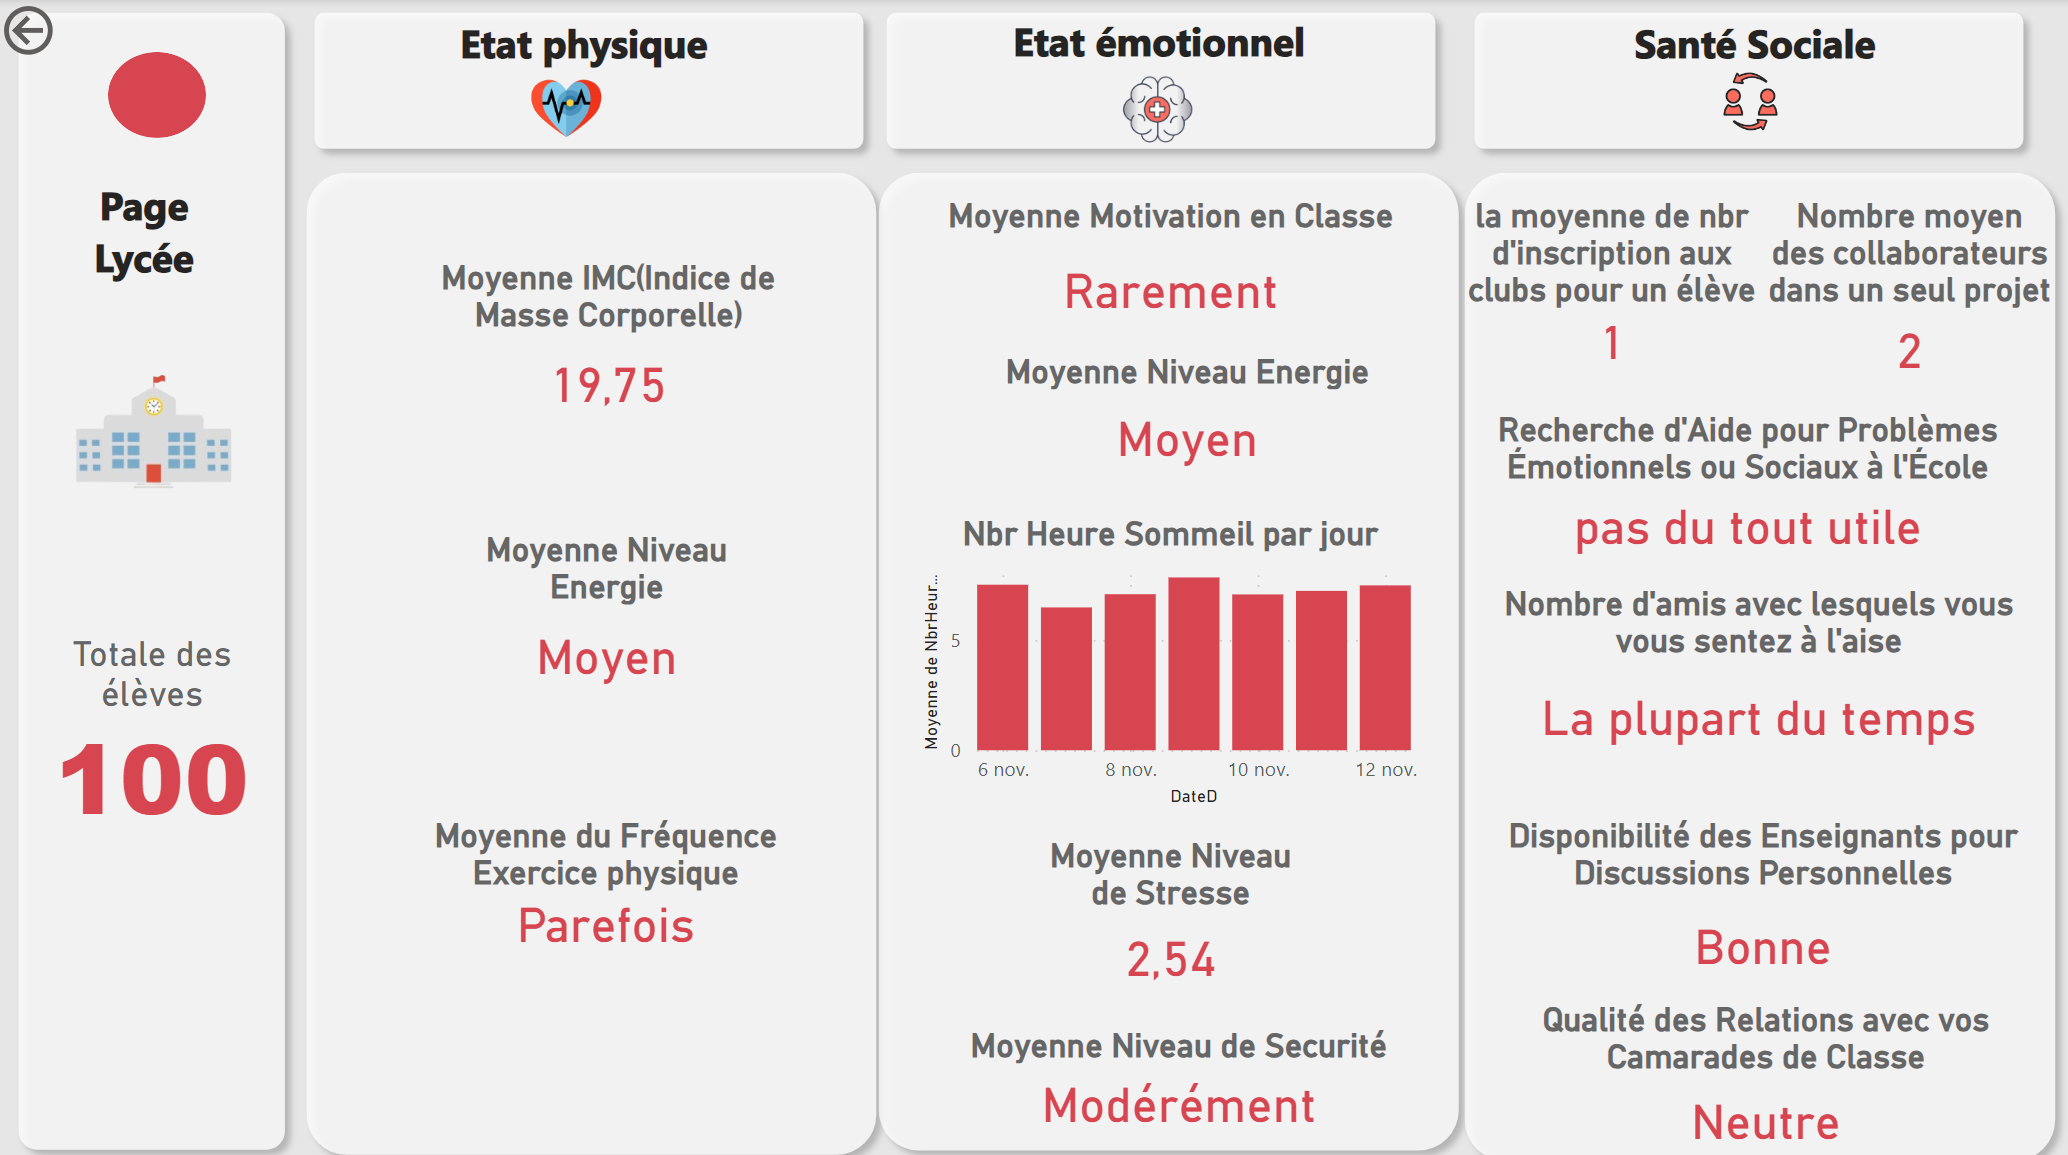

What the dashboard file says about the page in this screenshot:
{"tool":"powerbi","page":{"name":"Lycée","canvas":[1280,720],"ordinal":1},"visuals":[{"type":"shape","box":[187.5,0,356.8,102.1],"z":0,"group":"g3"},{"type":"shape","box":[540.4,0,356.8,102.1],"z":0,"group":"g4"},{"type":"shape","box":[903.8,0,356.8,102.1],"z":0,"group":"g5"},{"type":"shape","box":[182.3,98.3,369.8,624.5],"z":0},{"type":"shape","box":[5,0,182.5,720.2],"z":1000,"group":"g1"},{"type":"textbox","box":[573.2,4.9,287.8,67.9],"z":1000,"group":"g4"},{"type":"textbox","box":[219.4,6.2,286.2,68.8],"z":1000,"group":"g3"},{"type":"textbox","box":[942.4,6.2,287.8,67.9],"z":1000,"group":"g5"},{"type":"card","title":"Moyenne IMC(Indice de Masse Corporelle)","fields":{"Values":["Avg(MonthlyRoutineM.IMC)"]},"box":[262.5,160.3,230.1,106],"z":1000},{"type":"shape","box":[536.6,98.3,376.2,621.9],"z":2000},{"type":"card","title":"Moyenne Niveau de Stresse","fields":{"Values":["Avg(MonthlyRoutineM.NiveauStres)"]},"box":[632.2,517.2,186.2,102.1],"z":3000},{"type":"shape","box":[897.3,98.3,382.7,628.4],"z":4000},{"type":"textbox","box":[0,106.2,182.8,107.4],"z":5000,"group":"g1"},{"type":"card","title":"la moyenne de nbr d''inscription aux clubs pour un élève","fields":{"Values":["Median(MonthlyRoutineM.NbrInscritClub)"]},"box":[901.2,122.8,192.6,108.6],"z":5000},{"type":"card","title":" Nombre d''amis avec lesquels vous vous sentez à l''aise","fields":{"Values":["TrimesterRoutineT.MesAmisAlaise"]},"box":[910.2,362,356.8,115.1],"z":6000},{"type":"shape","box":[69.2,33.3,60.5,53.1],"z":7000,"group":"g1"},{"type":"card","title":"Disponibilité des Enseignants pour Discussions Personnelles","fields":{"Values":["TrimesterRoutineT.MesScoreEns"]},"box":[908.9,505.5,364.6,111.2],"z":7000},{"type":"card","title":"Totale des élèves","fields":{"Values":["All measures.Totalstudent"]},"box":[14.8,392.7,162.9,121.5],"z":8000,"group":"g2"},{"type":"card","title":"Qualité des Relations avec vos Camarades de Classe","fields":{"Values":["TrimesterRoutineT.MesScoreRelation"]},"box":[912.8,619.3,360.7,100.8],"z":8000},{"type":"card","title":"Recherche d''Aide pour Problèmes Émotionnels ou Sociaux à l''École","fields":{"Values":["TrimesterRoutineT.MesAide"]},"box":[903.8,254.7,355.6,94.4],"z":9000},{"type":"card","title":"Nombre moyen des collaborateurs dans  un seul projet","fields":{"Values":["Median(PartProject.NbrEeleveProjet)"]},"box":[1088.6,122.8,184.9,117.7],"z":10000},{"type":"group","id":"g1","title":"Groupe 1","box":[0,0,187.5,720.2],"z":11000},{"type":"group","id":"g2","title":"Groupe 2","box":[14.8,392.7,163,121],"z":12000},{"type":"lineClusteredColumnComboChart","title":"Nbr Heure Sommeil par jour","fields":{"Y":["Avg(DailyRoutineJ.NbrHeureSommeil)"],"Category":["Date.DateD"]},"box":[566.3,318.1,316.8,184.9],"z":13000},{"type":"actionButton","box":[0,0,100,40],"z":14000},{"type":"card","title":"Moyenne Niveau Energie","fields":{"Values":["MonthlyRoutineM.MesNivEnergie"]},"box":[284.4,328.4,186.2,106],"z":15000},{"type":"card","title":"Moyenne du Fréquence Exercice physique","fields":{"Values":["TrimesterRoutineT.MesScoreSport"]},"box":[226.3,505.5,301.3,84],"z":16000},{"type":"card","title":"Moyenne Motivation en Classe","fields":{"Values":["MonthlyRoutineM.MesMotivationClasse"]},"box":[575.4,122.8,300,90.5],"z":17000},{"type":"card","title":"Moyenne Niveau Energie","fields":{"Values":["MonthlyRoutineM.MesNivBonheure"]},"box":[592.2,218.5,288.3,80.2],"z":18000},{"type":"card","title":"Moyenne Niveau de Securité","fields":{"Values":["TrimesterRoutineT.MesSec"]},"box":[580.5,634.8,300,69.8],"z":19000},{"type":"group","id":"g3","title":"Groupe 3","box":[187.5,0,356.8,102.1],"z":20000},{"type":"group","id":"g4","title":"Groupe 3","box":[540.4,0,356.8,102.1],"z":21000},{"type":"group","id":"g5","title":"Groupe 5","box":[903.8,0,356.8,102.1],"z":22000},{"type":"image","box":[28.4,207.5,132.1,118.6],"z":23000},{"type":"image","box":[685.4,39.5,64.2,59.3],"z":24000},{"type":"image","box":[991.8,19.7,179,98.6],"z":25000},{"type":"image","box":[317.5,30,71.2,76.2],"z":26000}]}

Visuals, with their boxes in screenshot pixels (x1, y1, x2, y2), scaled from the page's 1280x720 canvas onto the 2068x1155 screenshot:
shape: 303 0 879 164
shape: 873 0 1450 164
shape: 1460 0 2037 164
shape: 295 158 892 1154
shape: 8 0 303 1154
textbox: 926 8 1391 117
textbox: 354 10 817 120
textbox: 1523 10 1988 119
"Moyenne IMC(Indice de Masse Corporelle)" card: 424 257 796 427
shape: 867 158 1475 1154
"Moyenne Niveau de Stresse" card: 1021 830 1322 993
shape: 1450 158 2067 1154
textbox: 0 170 295 343
"la moyenne de nbr d''inscription aux clubs pour un élève" card: 1456 197 1767 371
" Nombre d''amis avec lesquels vous vous sentez à l''aise" card: 1471 581 2047 765
shape: 112 53 210 139
"Disponibilité des Enseignants pour Discussions Personnelles" card: 1468 811 2057 989
"Totale des élèves" card: 24 630 287 825
"Qualité des Relations avec vos Camarades de Classe" card: 1475 993 2057 1154
"Recherche d''Aide pour Problèmes Émotionnels ou Sociaux à l''École" card: 1460 409 2035 560
"Nombre moyen des collaborateurs dans  un seul projet" card: 1759 197 2057 386
"Groupe 1" group: 0 0 303 1154
"Groupe 2" group: 24 630 287 824
"Nbr Heure Sommeil par jour" lineClusteredColumnComboChart: 915 510 1427 807
actionButton: 0 0 162 64
"Moyenne Niveau Energie" card: 459 527 760 697
"Moyenne du Fréquence Exercice physique" card: 366 811 852 946
"Moyenne Motivation en Classe" card: 930 197 1414 342
"Moyenne Niveau Energie" card: 957 351 1423 479
"Moyenne Niveau de Securité" card: 938 1018 1423 1130
"Groupe 3" group: 303 0 879 164
"Groupe 3" group: 873 0 1450 164
"Groupe 5" group: 1460 0 2037 164
image: 46 333 259 523
image: 1107 63 1211 158
image: 1602 32 1892 190
image: 513 48 628 170
